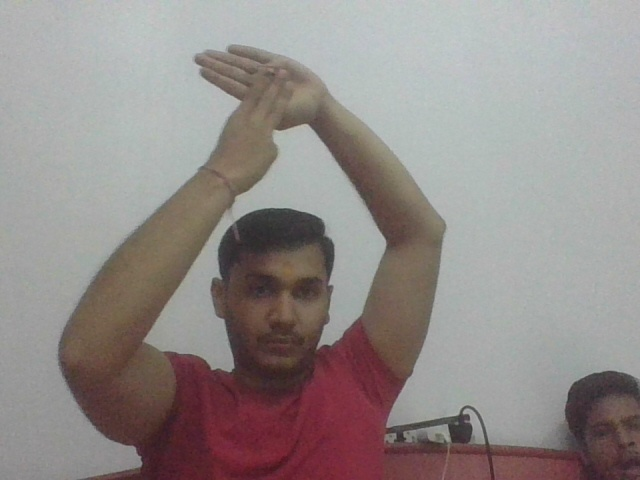M: (189, 38, 325, 165)
